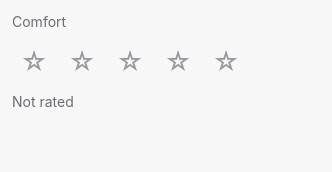
Test case: the rating control › marks exactly one radio checked, and prints its meaning
This screenshot has width=332, height=172.
Click the radio button named "4 of 5 — Very comfortable" at x=178, y=62, box left=156, top=40, right=200, bottom=84
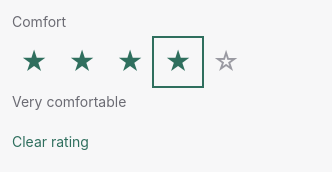
Check: the text "Very comfortable" is shown, box left=12, top=93, right=126, bottom=110
